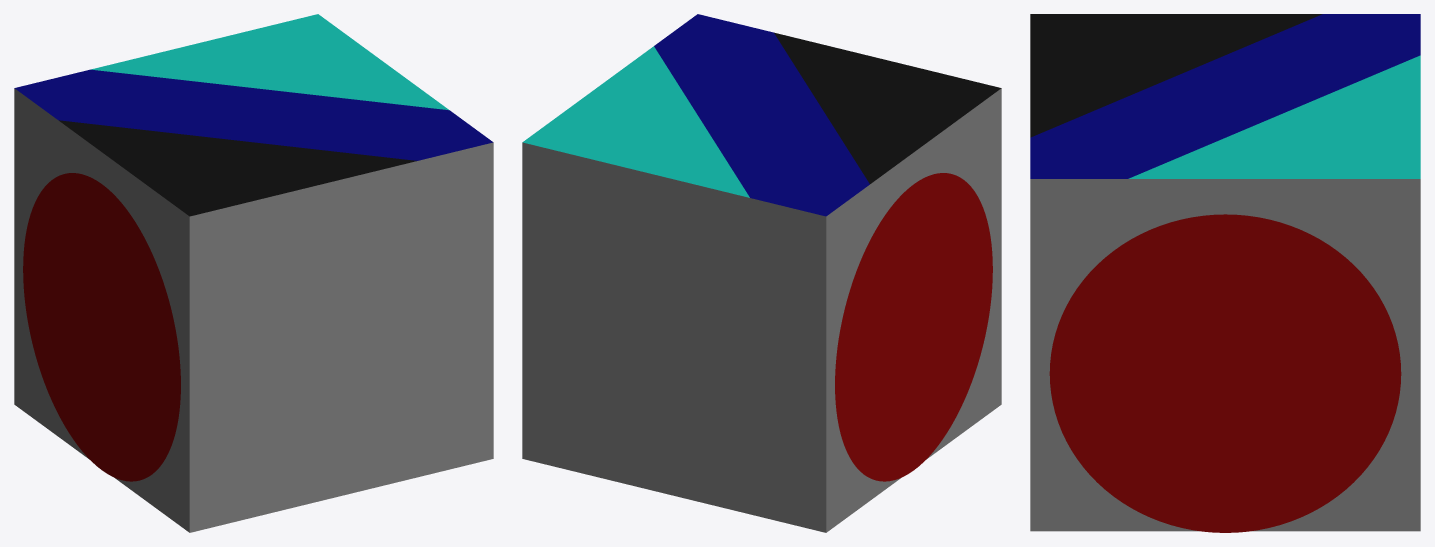
File: Blue4.FBX
3 views of the same model, side by side, from view 1: azimuth 30°, elevation 25°; view 2: azimuth 150°, elevation 25°; view 3: azimuth 270°, elevation 25° (orthographic). The views are drawn at different scales.
Visible parts, largest first — view 1: Body, WheelR; view 2: Body, WheelR; view 3: Body, WheelL.
Boxes of the visible parts, x1,y1,x2,y2 form: Body: [14, 14, 493, 532]; WheelR: [23, 173, 180, 481]; Body: [522, 14, 1001, 532]; WheelR: [835, 173, 992, 481]; Body: [1030, 14, 1420, 531]; WheelL: [1049, 214, 1401, 532].
Size of the model in its own units: 7.87 by 7.87 by 7.87.
